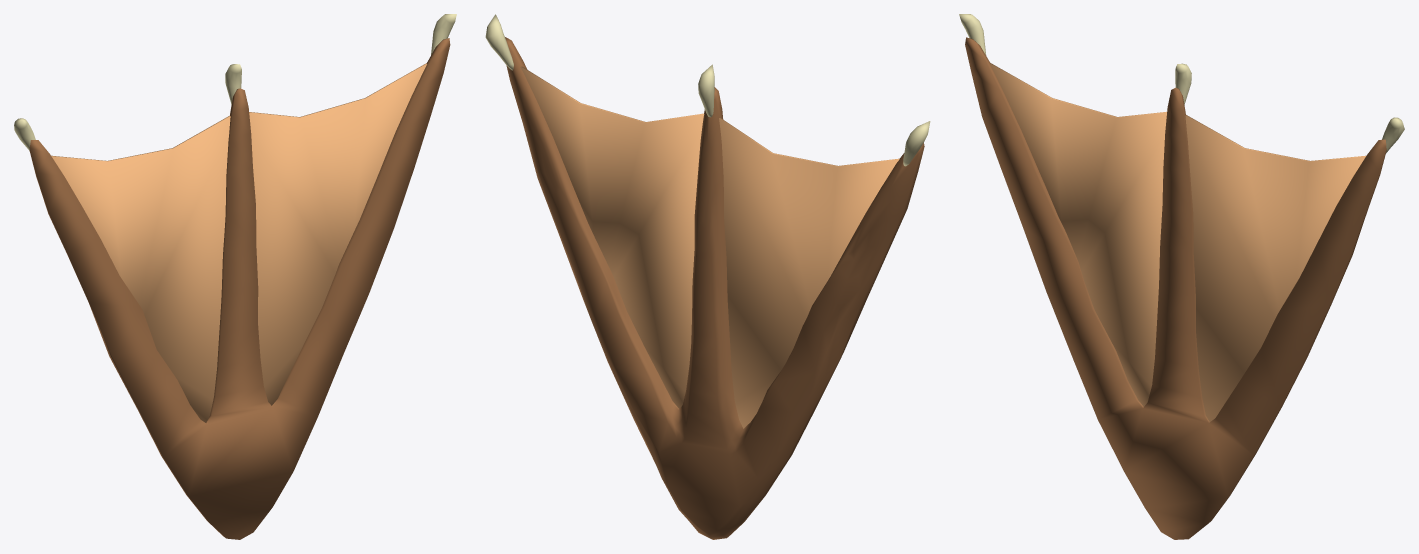
Rendered from Webbed Feet.fbx.
3 views of the same model, side by side, from view 1: azimuth 30°, elevation 25°; view 2: azimuth 150°, elevation 25°; view 3: azimuth 330°, elevation 25° (orthographic).
Parts seen in each view (by area): view 1: Webbed Feet - Daniel Lochner; view 2: Webbed Feet - Daniel Lochner; view 3: Webbed Feet - Daniel Lochner.
Boxes of the visible parts, bbox=[...] form: Webbed Feet - Daniel Lochner: bbox=[14, 14, 456, 539]; Webbed Feet - Daniel Lochner: bbox=[485, 14, 930, 539]; Webbed Feet - Daniel Lochner: bbox=[959, 14, 1404, 539].
Bounding box in the file's own units: 78.65 × 81.16 × 3.96.
